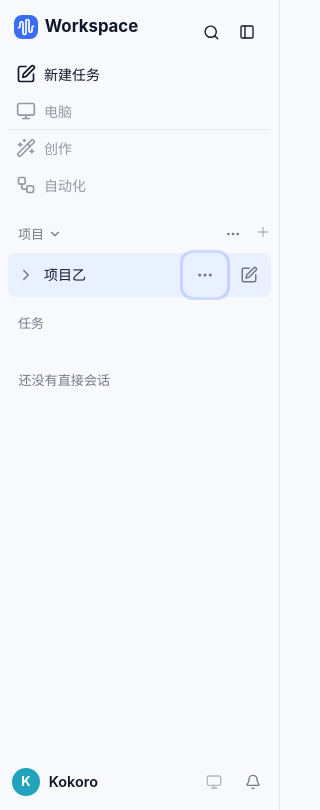
Test: pin and unpin move a row between real sections without losing keyboard focus (Projects collapsed=true)
This screenshot has width=320, height=810.
Press ArrowDown in the 2nd button named "项目选项", box top-left (183, 253), bottom-right (227, 297)
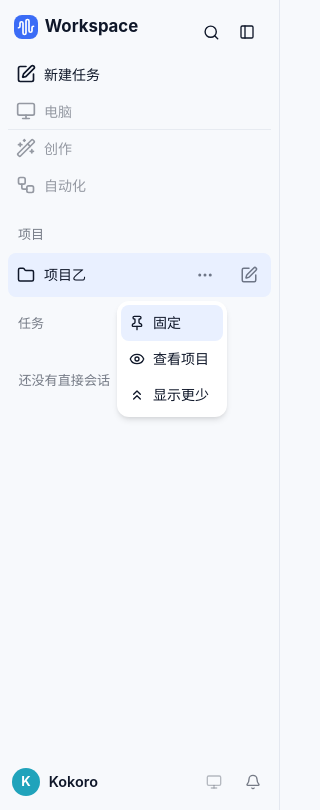
Press Enter in the menu item "固定", box top-left (121, 305), bottom-right (223, 341)
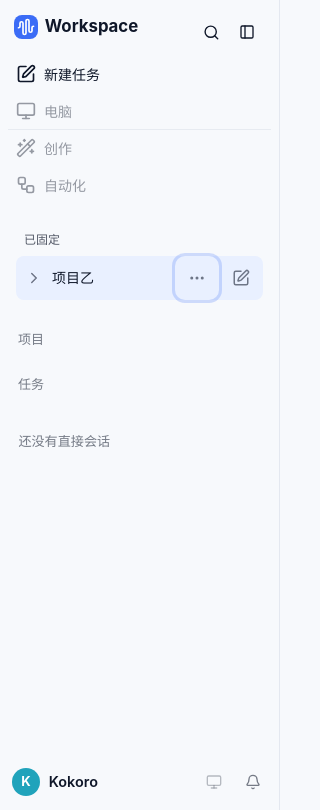
Expected: the menu is gone
Click the button with aria-label "收起项目" at (40, 339), box top-left (18, 323), bottom-right (62, 355)
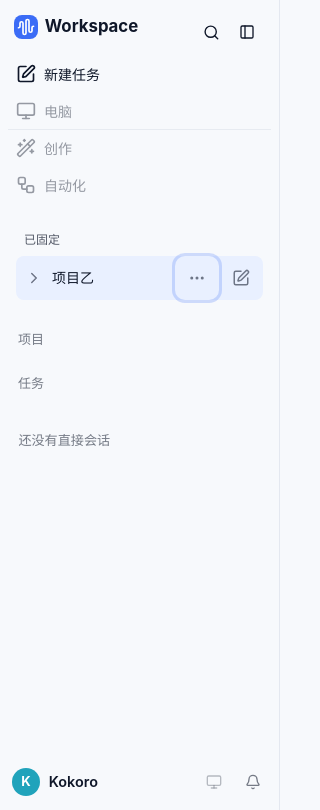
Press ArrowDown in the button named "项目选项", box top-left (175, 256), bottom-right (219, 300)
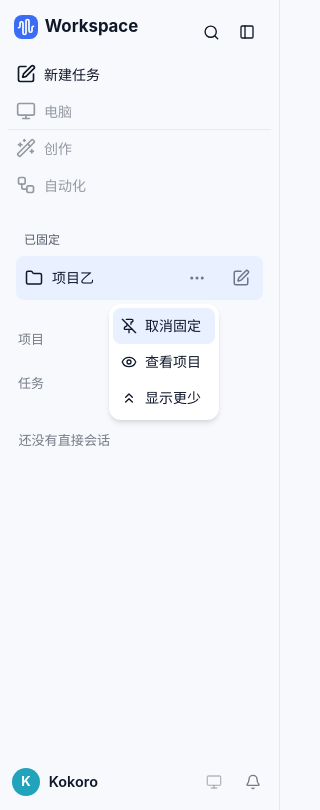
Press Enter in the menu item "取消固定", box top-left (113, 308), bottom-right (215, 344)
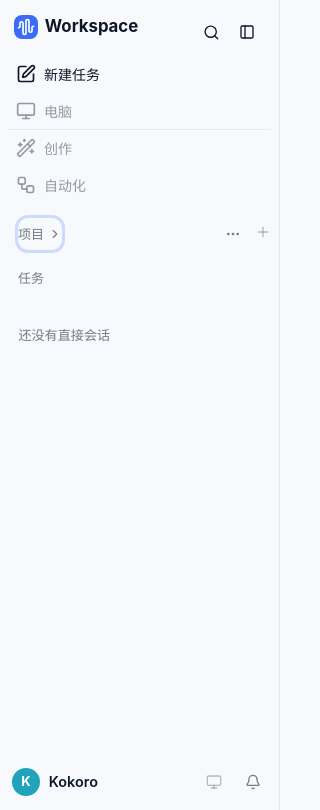
Expected: the menu is gone
